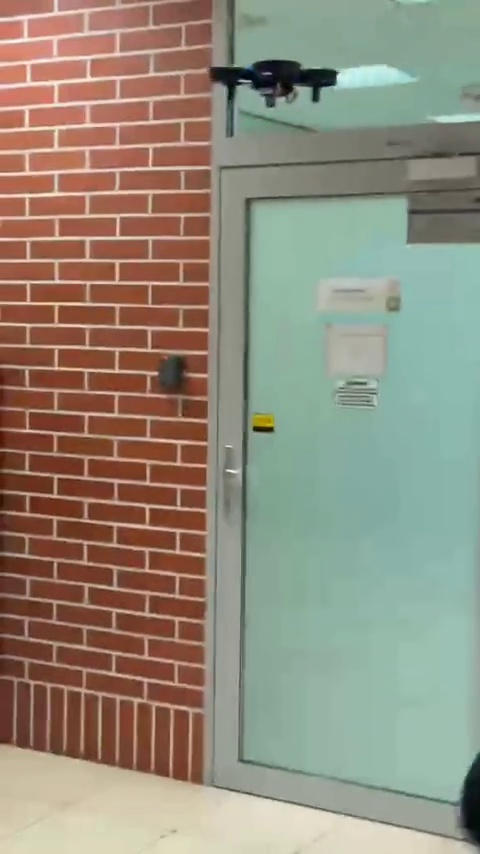drone: (203, 63, 342, 108)
